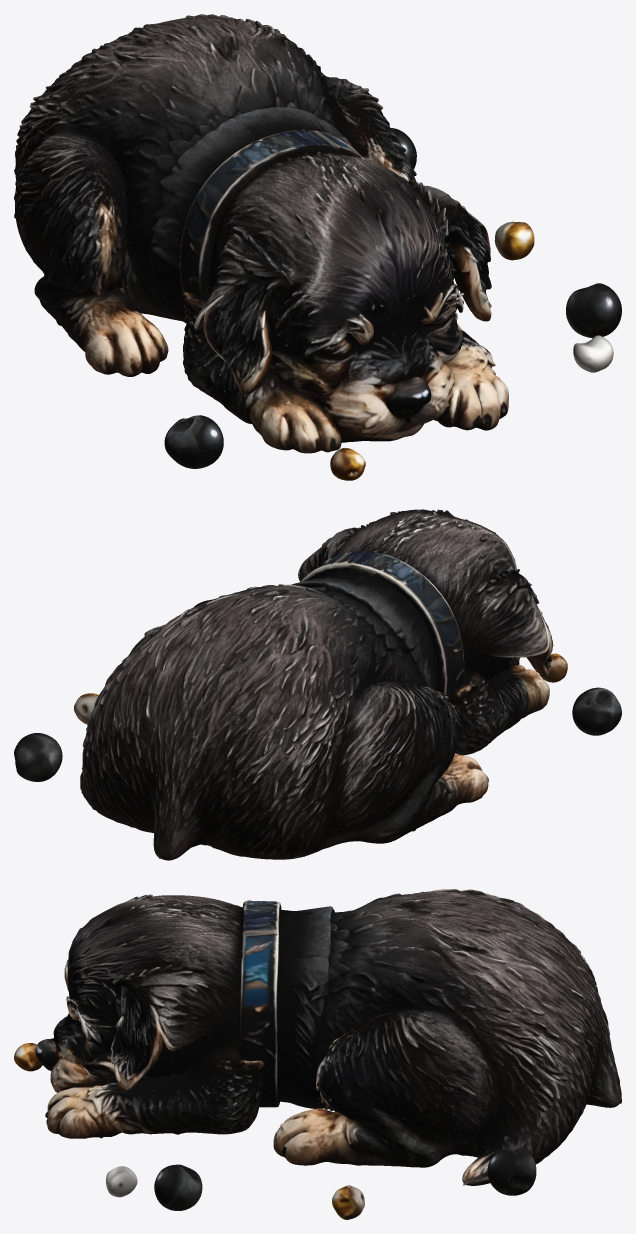
File: stage_i.glb
The picture shows the model from 3 angles, top to bottom: view 1: azimuth 30°, elevation 25°; view 2: azimuth 150°, elevation 25°; view 3: azimuth 270°, elevation 25°; orthographic projection. The views are drawn at different scales.
Visible parts, largest first — view 1: tripo_node_56cb7aac-5b1b-4fb0-8b1c-ceaa4c691541; view 2: tripo_node_56cb7aac-5b1b-4fb0-8b1c-ceaa4c691541; view 3: tripo_node_56cb7aac-5b1b-4fb0-8b1c-ceaa4c691541.
Part boxes in pixels (bbox=[...]): tripo_node_56cb7aac-5b1b-4fb0-8b1c-ceaa4c691541: bbox=[14, 14, 621, 480]; tripo_node_56cb7aac-5b1b-4fb0-8b1c-ceaa4c691541: bbox=[14, 509, 621, 860]; tripo_node_56cb7aac-5b1b-4fb0-8b1c-ceaa4c691541: bbox=[14, 889, 621, 1219].
Size of the model in its own units: 0.8097 by 0.3818 by 1.
1 material, 1 textured.
